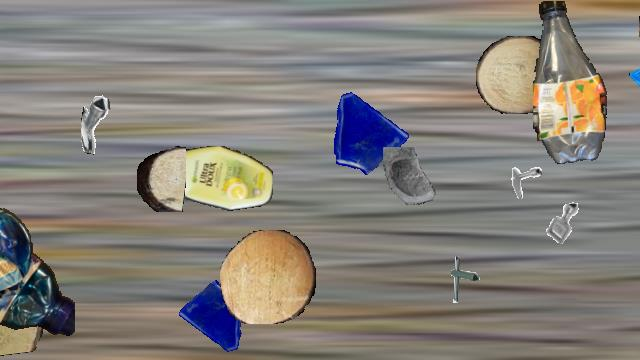glass: (321, 85, 411, 175), (177, 280, 255, 358), (377, 147, 445, 215), (629, 50, 640, 112)
metal: (81, 95, 143, 157), (535, 195, 591, 251), (436, 253, 488, 305), (500, 156, 542, 198)
plastic: (533, 1, 609, 163), (0, 206, 74, 342), (160, 146, 272, 212)
wood: (220, 230, 316, 324), (476, 36, 558, 114), (0, 227, 47, 359), (137, 145, 185, 211), (639, 1, 640, 59)
